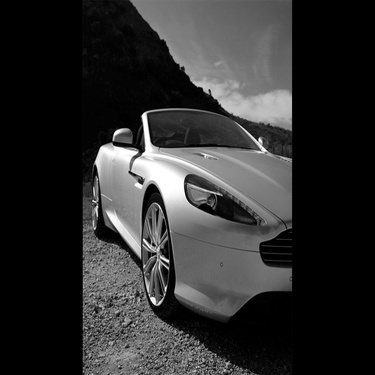car: (75, 91, 314, 328)
